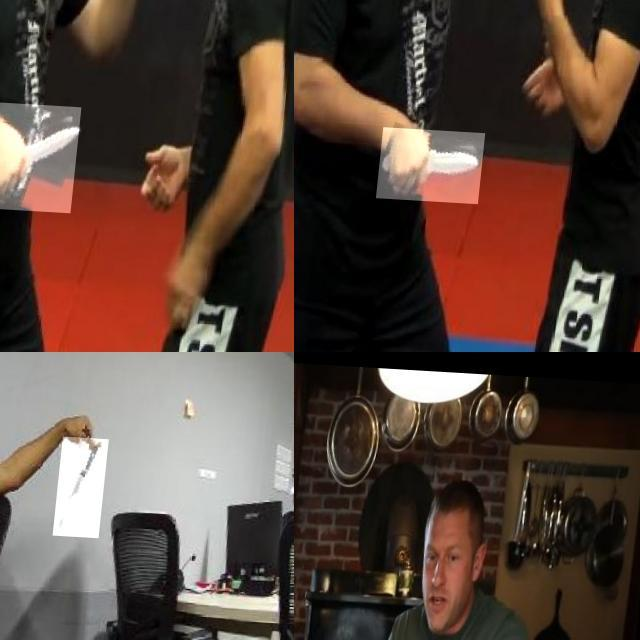-: (0, 99, 89, 210), (386, 124, 494, 200), (62, 433, 116, 534)
